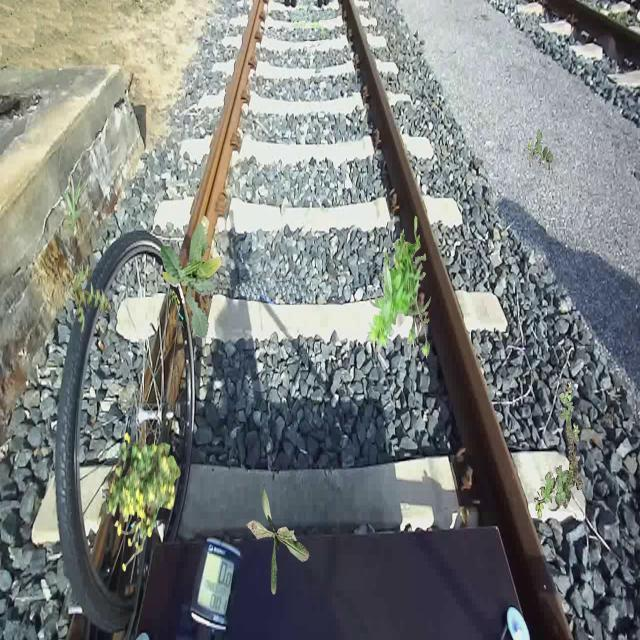Plant: (106, 432, 181, 572), (366, 216, 431, 359), (160, 215, 222, 340), (246, 483, 310, 595), (534, 381, 582, 519), (71, 262, 112, 334), (61, 174, 88, 230), (526, 129, 554, 170)
